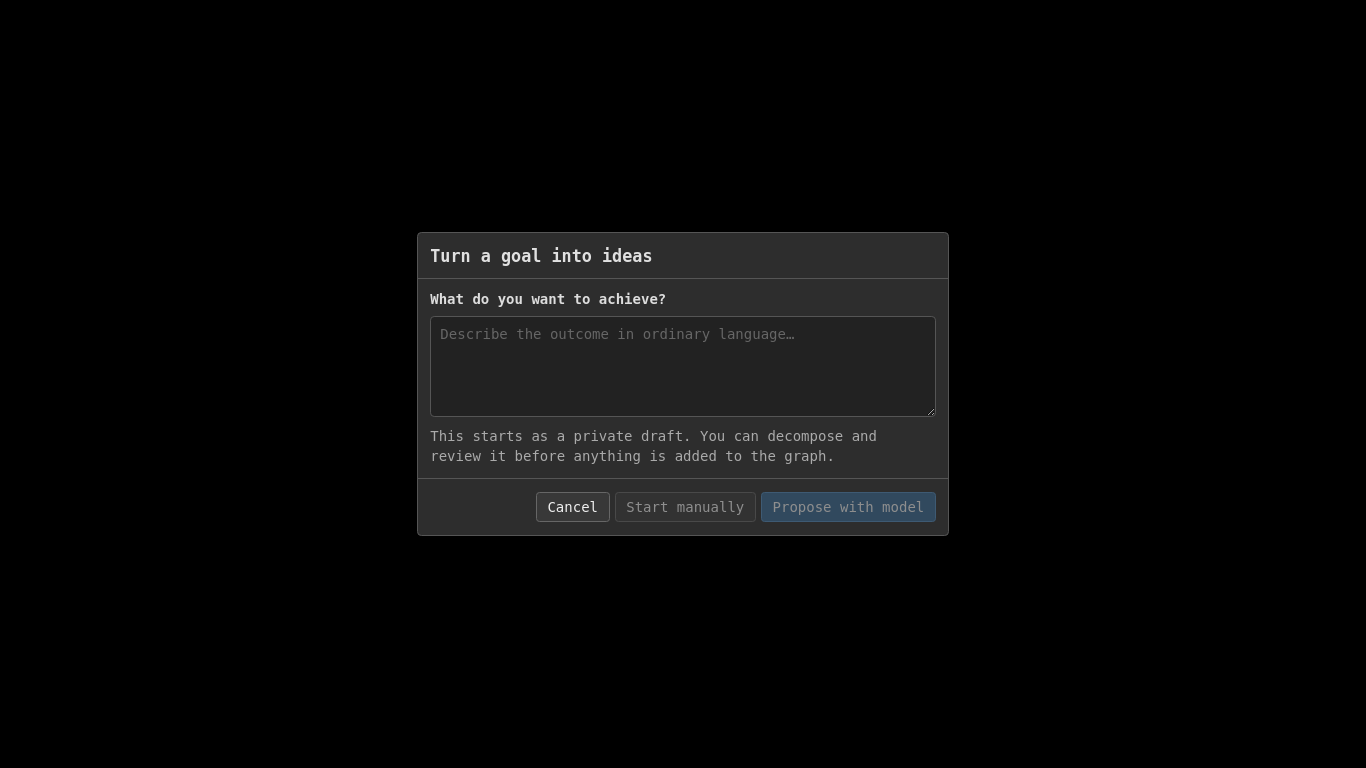
Test: IdeaProposalEntry › opens a validated model proposal without persisting it
The width and height of the screenshot is (1366, 768).
Type "Improve operations" into the text box labelled "What do you want to achieve?".
click(683, 366); type("Improve operations")  # box top-left (430, 316), bottom-right (936, 416)
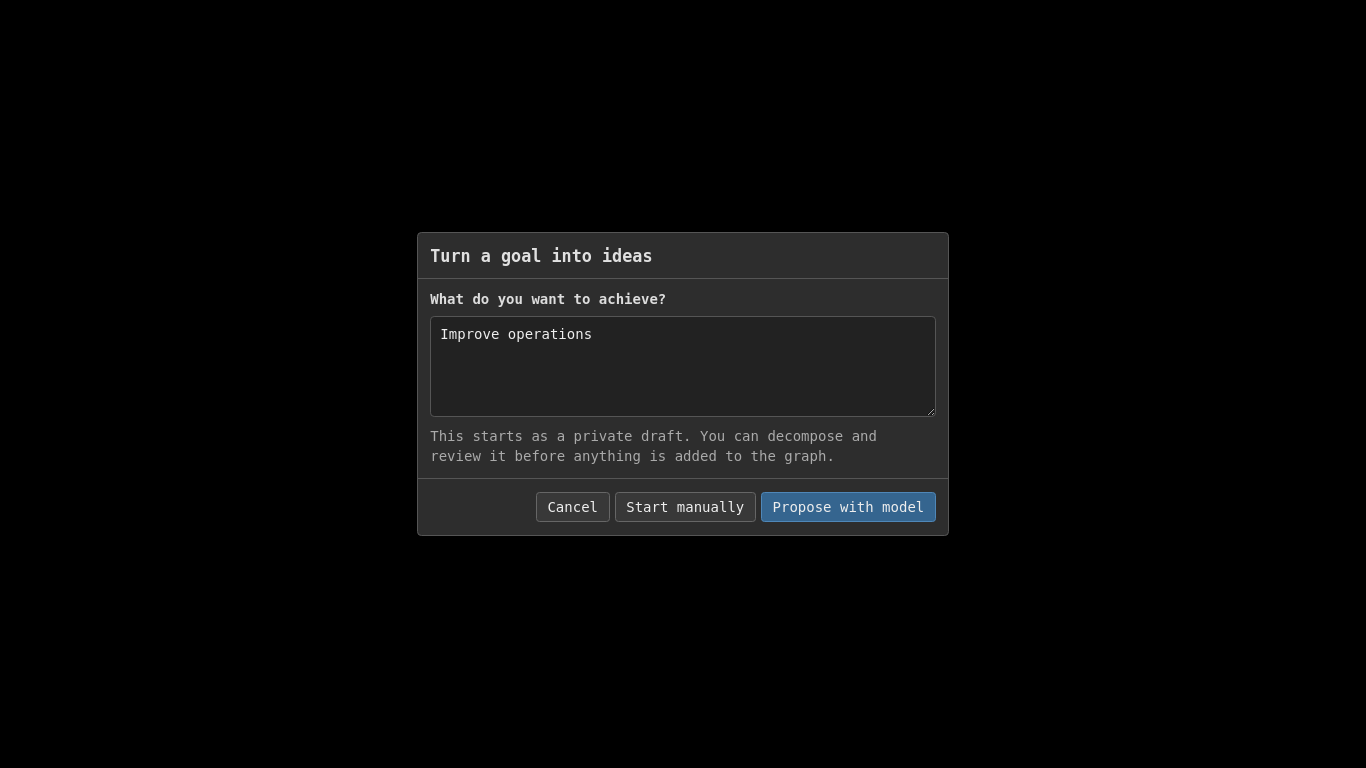
Click the button "Propose with model".
click(848, 507)  # box top-left (761, 492), bottom-right (936, 522)
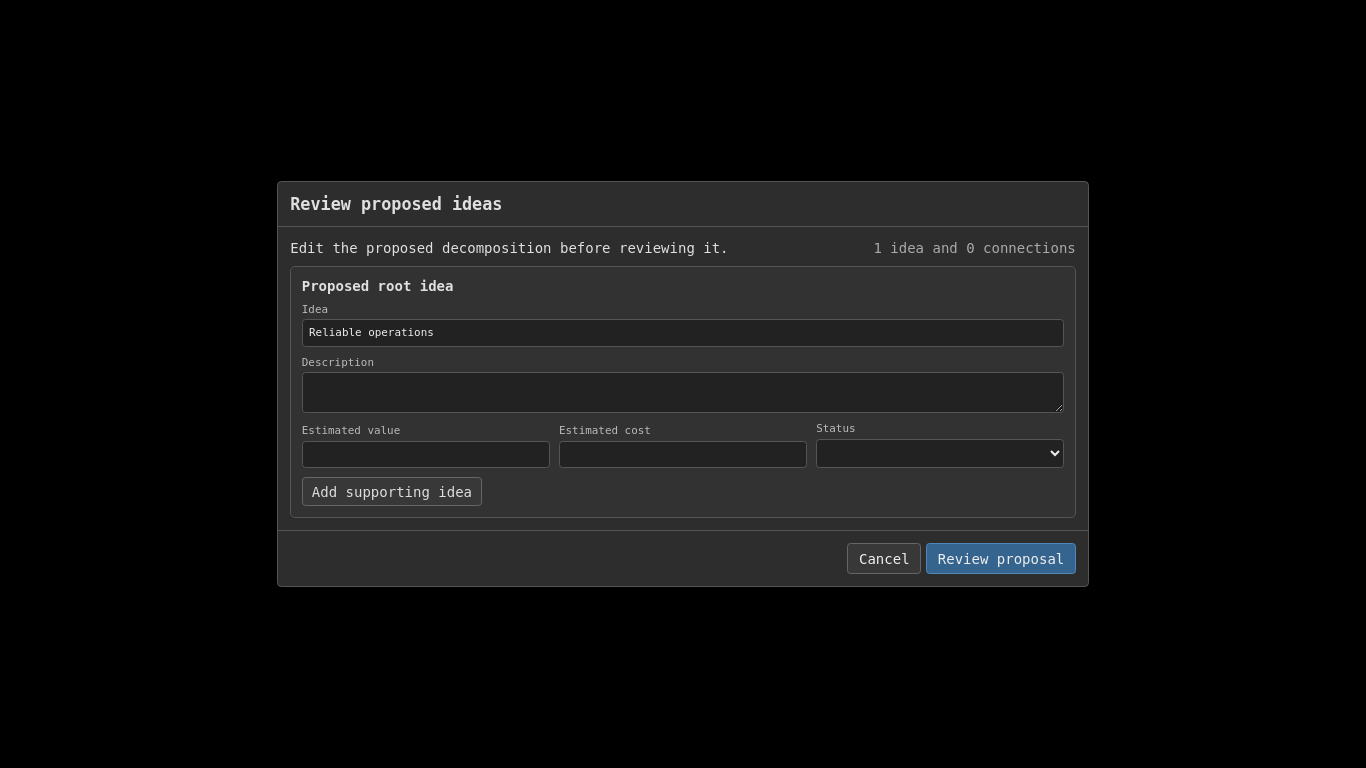
Check: the text "Review proposed ideas" is shown, box top-left (290, 194), bottom-right (502, 214)
Check: the field labelled "Idea" holds "Reliable operations", box top-left (302, 319), bottom-right (1064, 347)
